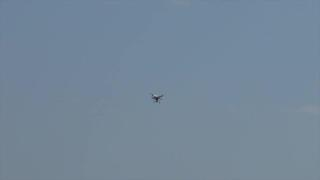UAV: (151, 94, 164, 104)
